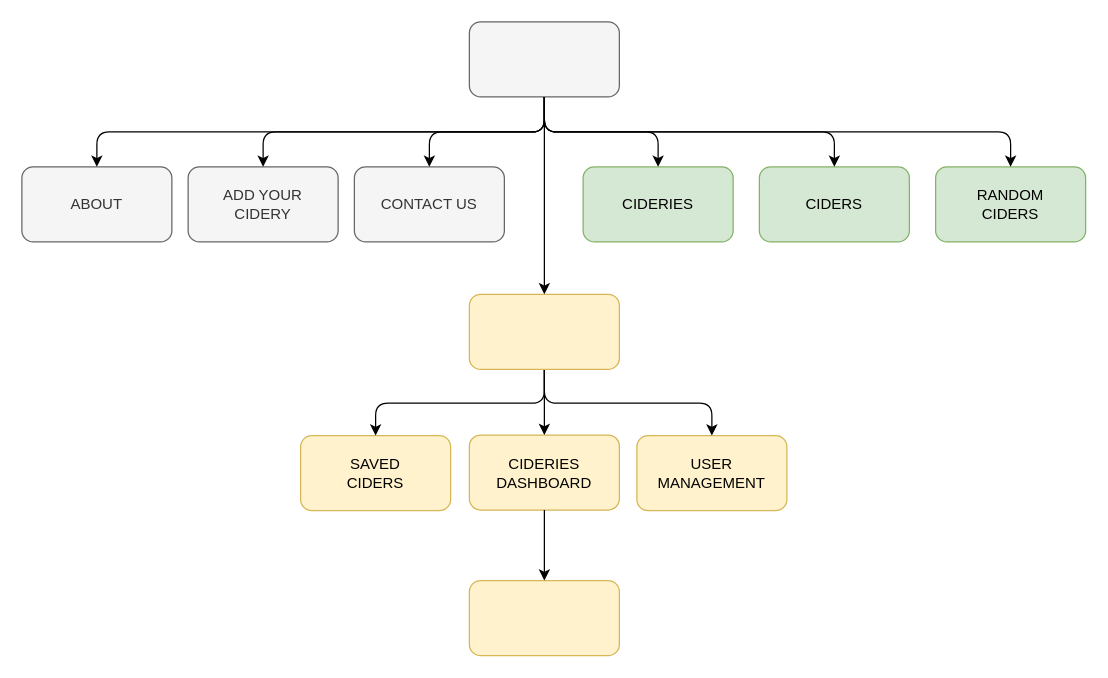
Some shapes in this 1108 by 678 pixel diagram are drawn without their labels. The box of each missing label's shape, as (x1, y1, x2, y2) in pixels:
CIDER MANAGEMENT: (468, 579, 619, 656)
HOME: (468, 21, 619, 97)
SIGN IN / SIGN UP: (468, 293, 619, 369)
